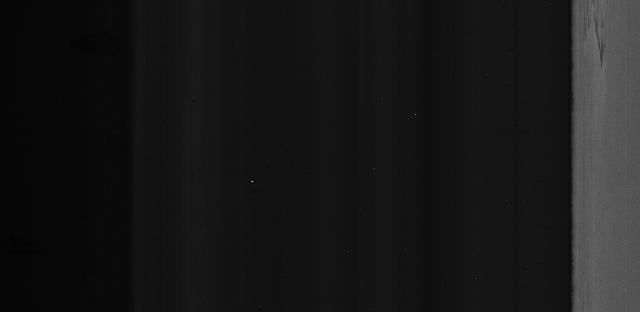silk_spot: (575, 0, 622, 80)
